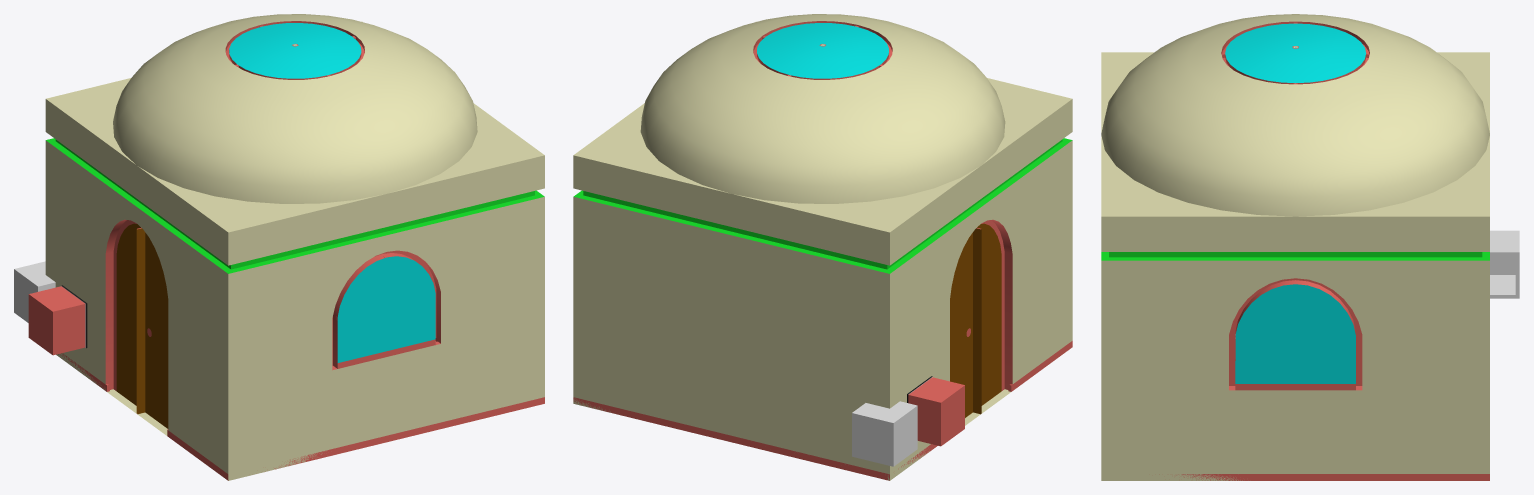
Rendered from kitchenWithHole.fbx.
3 views of the same model, side by side, from view 1: azimuth 30°, elevation 25°; view 2: azimuth 150°, elevation 25°; view 3: azimuth 270°, elevation 25° (orthographic). The views are drawn at different scales.
Parts seen in each view (by area): view 1: Walls, Roof, Cube; view 2: Walls, Roof, Cube; view 3: Walls, Roof, Cube.
Part boxes in pixels (x1,y1,x2,y2): Walls: [28, 99, 544, 480]; Roof: [46, 14, 544, 232]; Cube: [14, 261, 55, 322]; Walls: [573, 99, 1072, 480]; Roof: [574, 14, 1072, 232]; Cube: [852, 401, 917, 466]; Walls: [1101, 216, 1489, 480]; Roof: [1101, 14, 1489, 216]; Cube: [1490, 230, 1519, 298].
Size of the model in its own units: 443 by 399 by 430.
